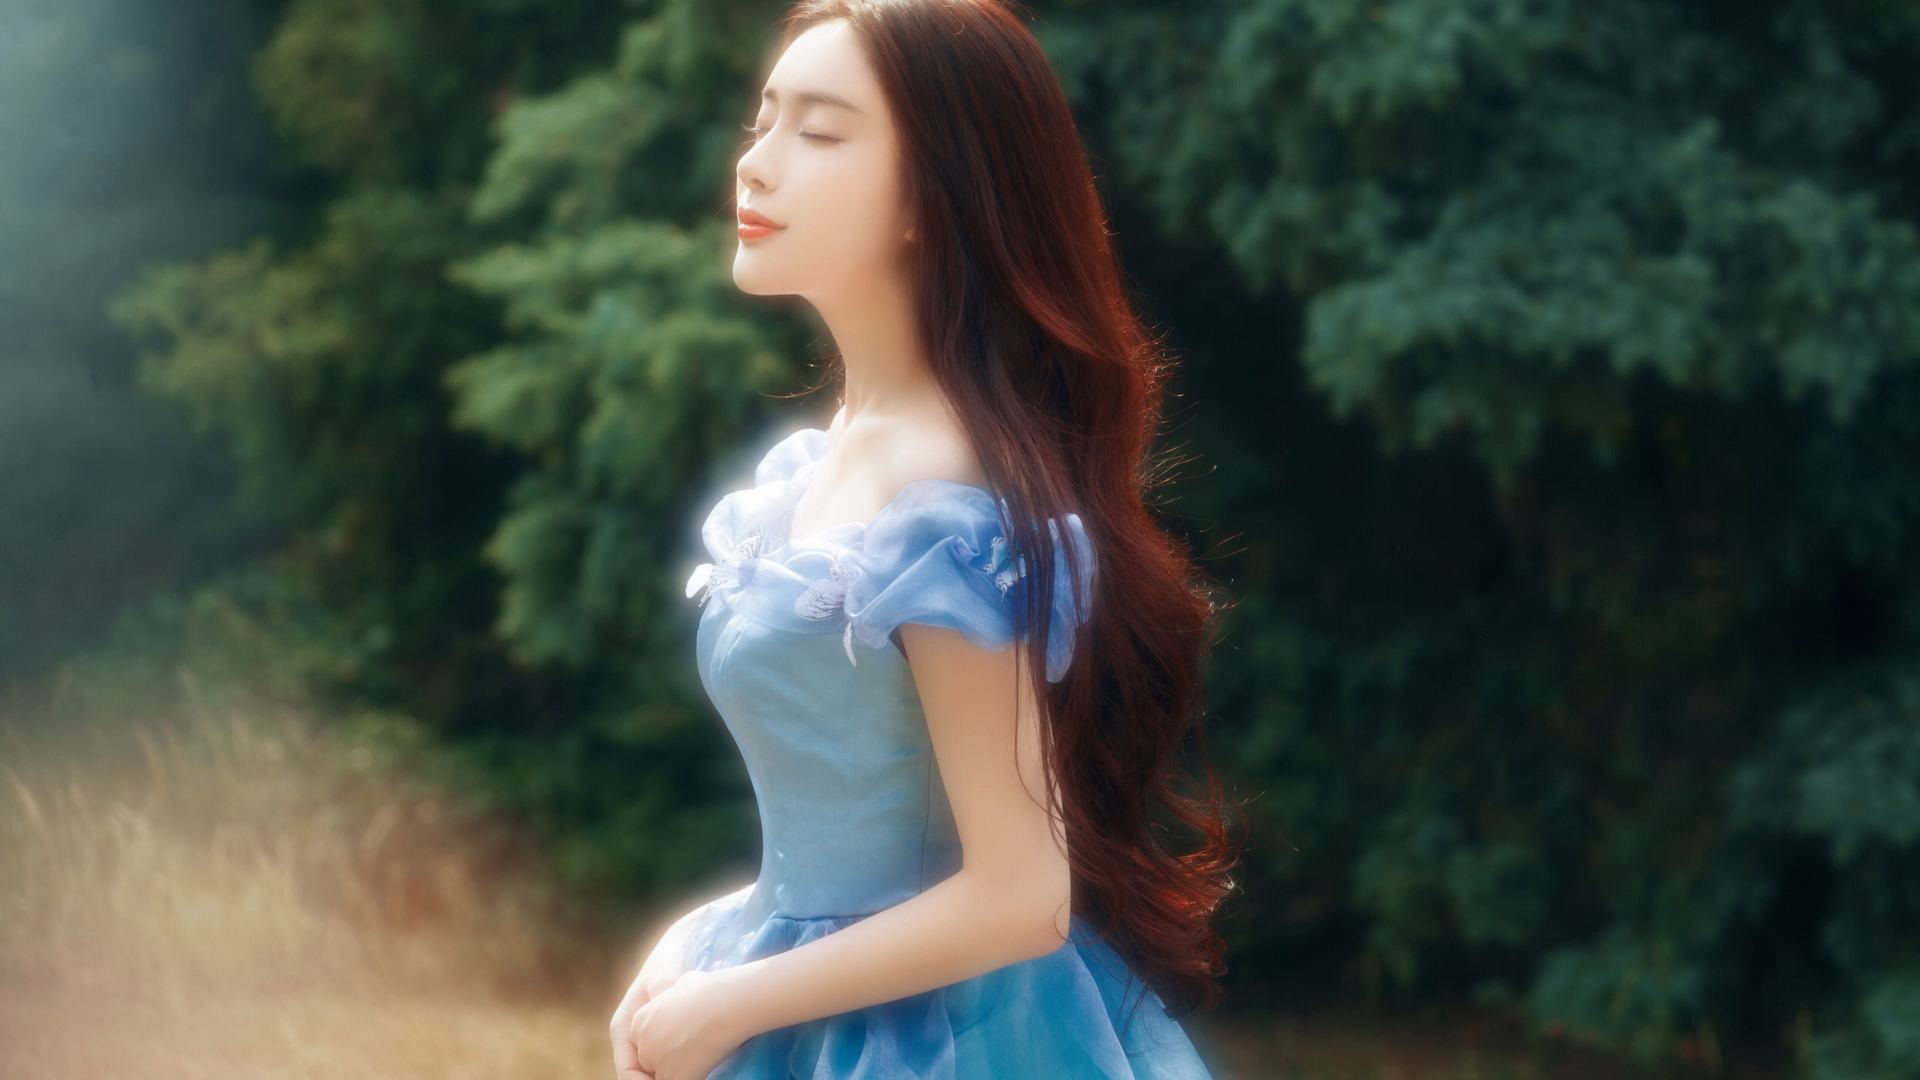person: (598, 25, 1133, 867)
